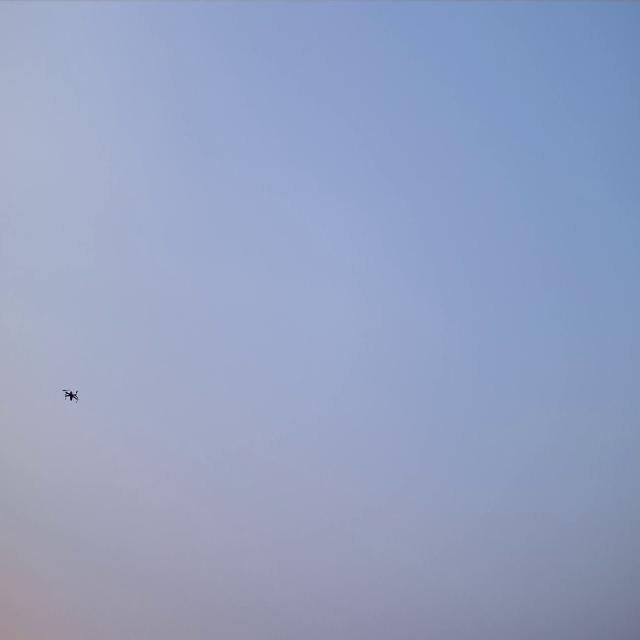UAV: (61, 388, 81, 403)
